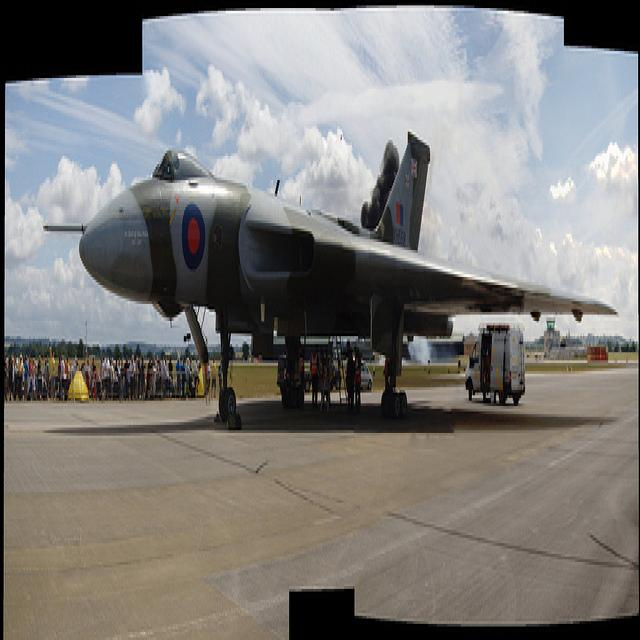Vehicle: (464, 327, 525, 410)
